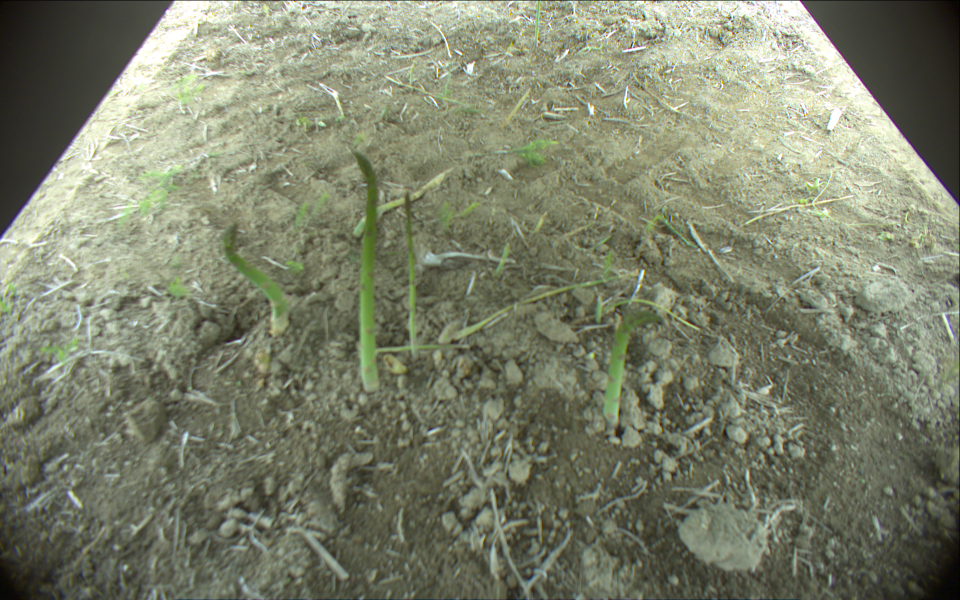aspa: (454, 269, 639, 342), (345, 144, 381, 394), (349, 165, 453, 239), (222, 223, 288, 334), (602, 310, 662, 426), (404, 192, 420, 361), (534, 1, 542, 45)
